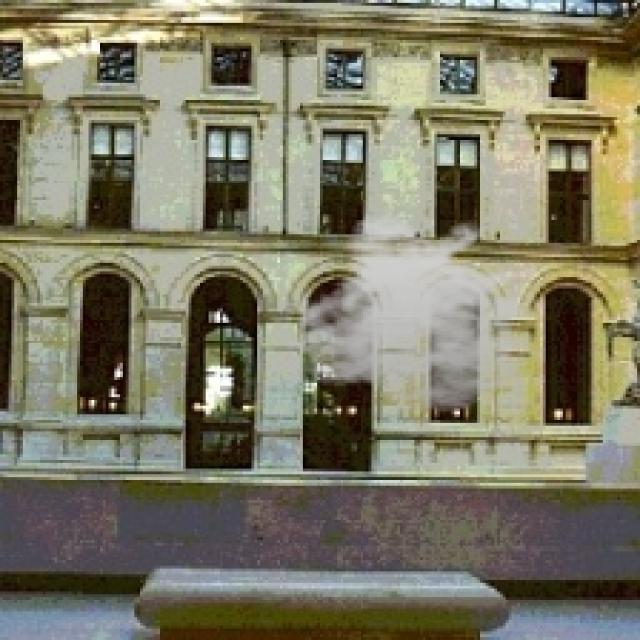smoke: (283, 212, 560, 414)
